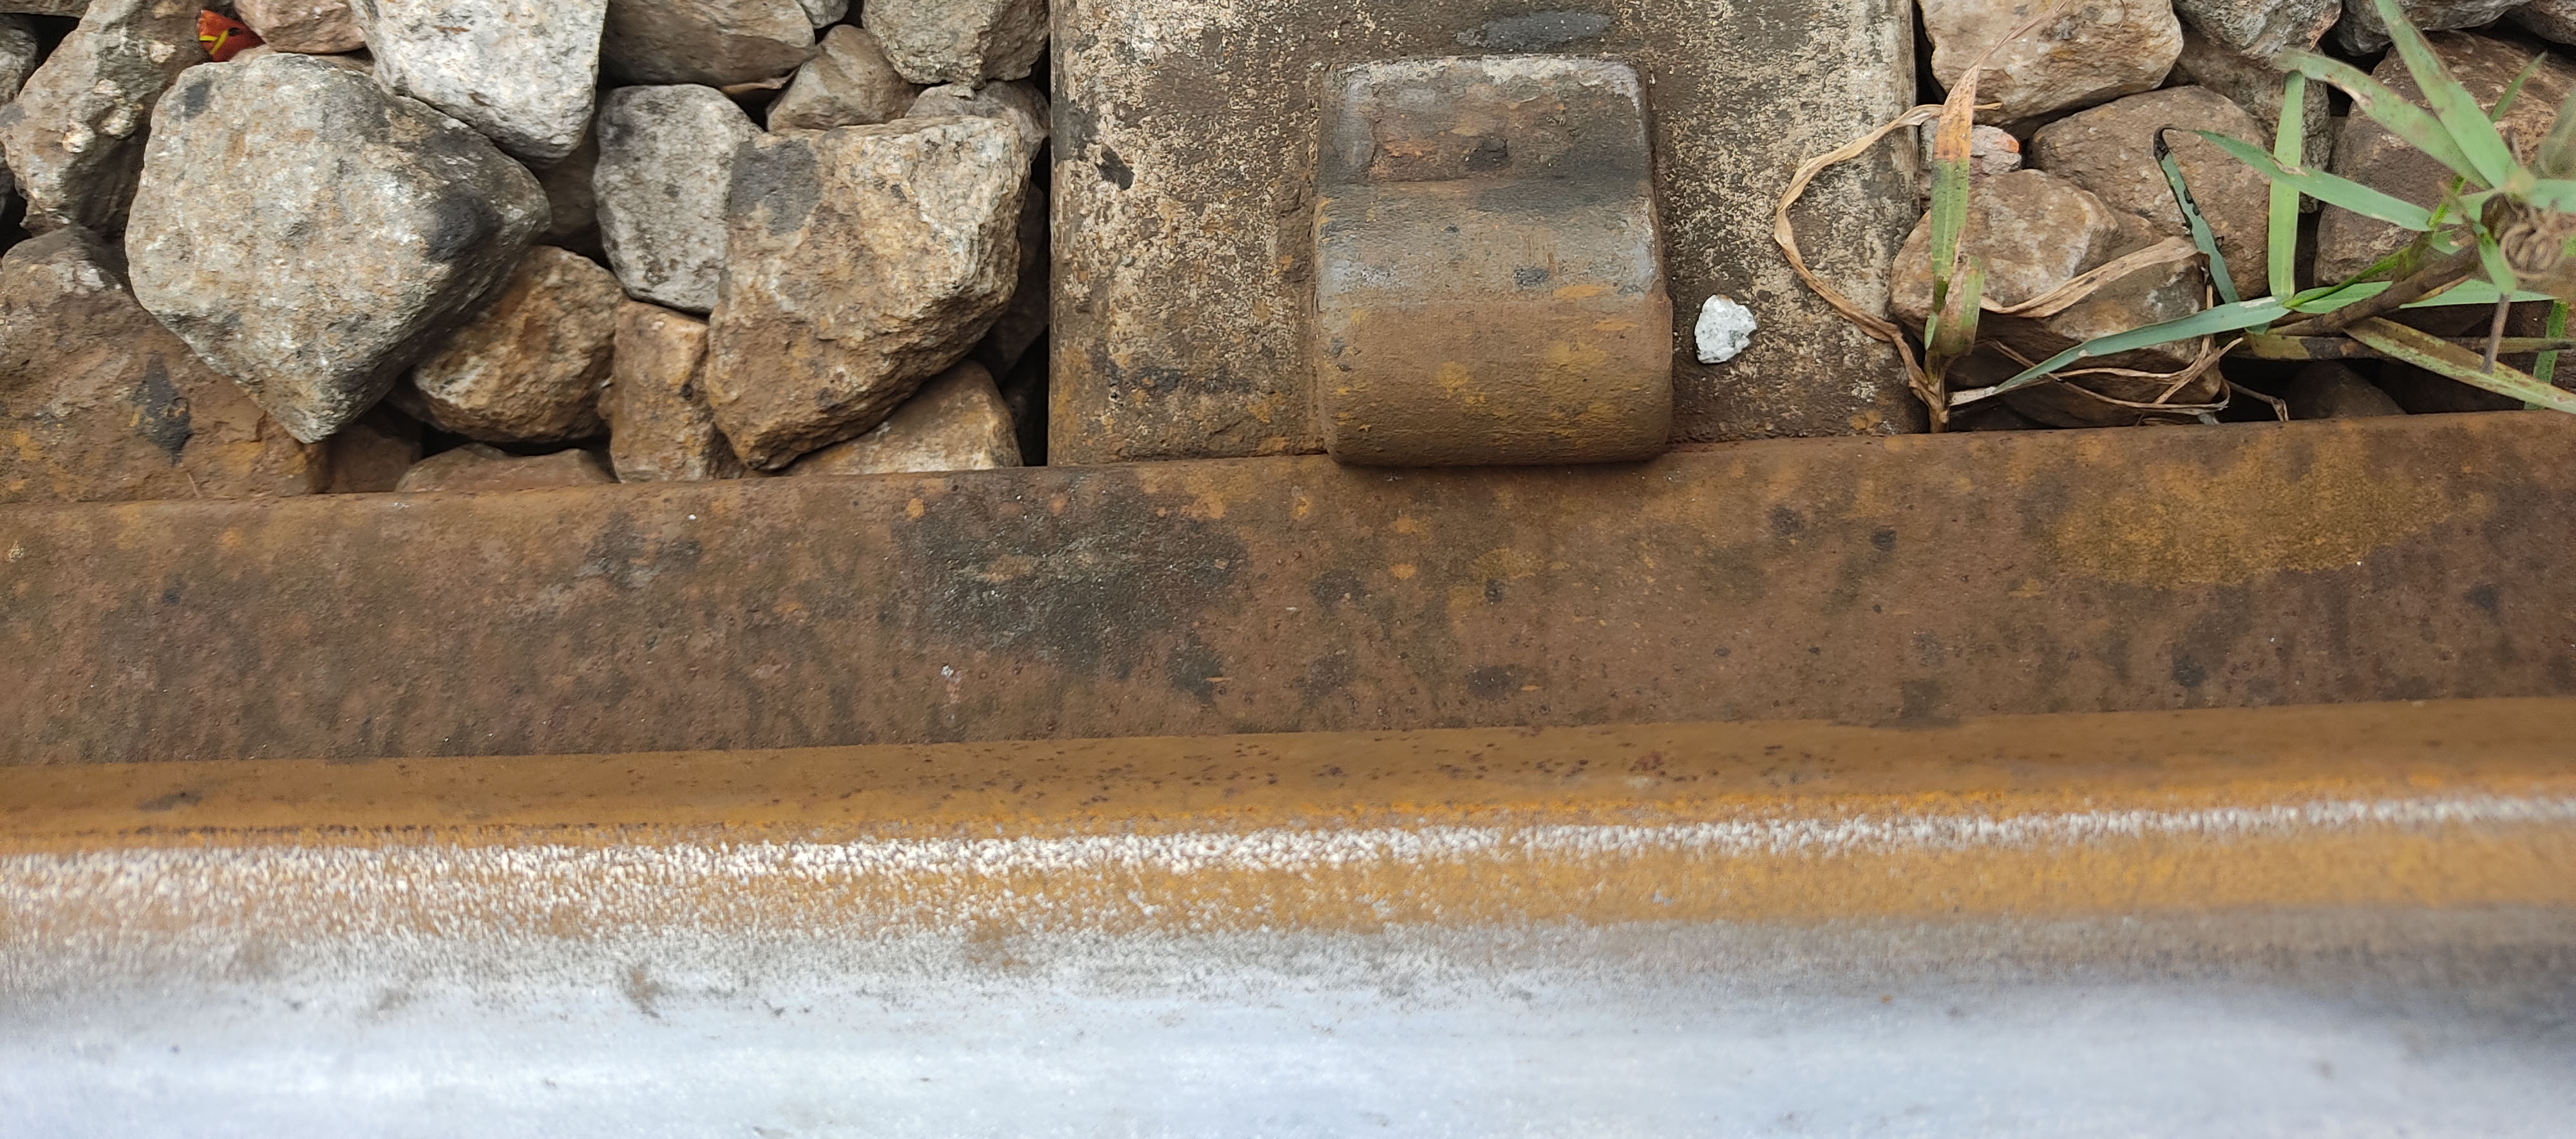error1: (1175, 0, 1835, 575)
